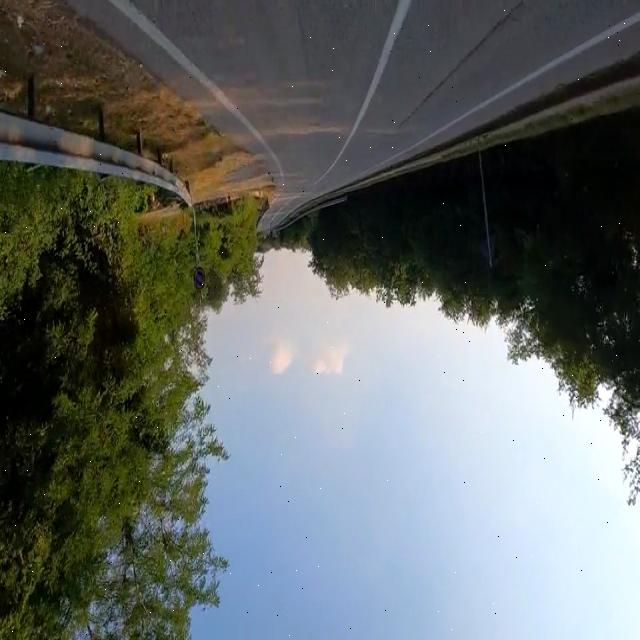lane: (388, 12, 640, 160), (110, 0, 284, 176), (316, 1, 411, 185)
road: (74, 2, 640, 230)
